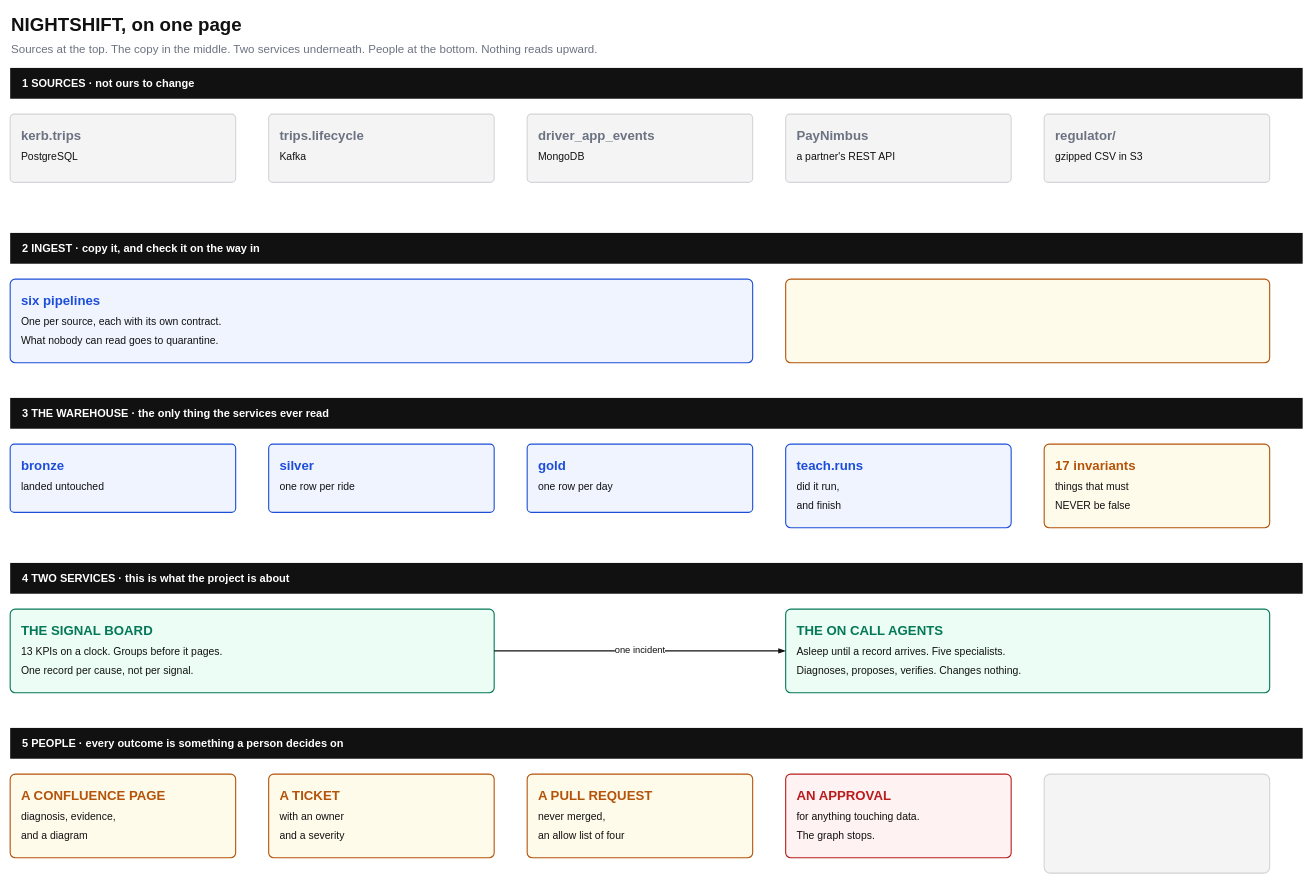
Some shapes in this 1312 by 883 pixel diagram are drawn without their labels. The shapes that lost their labels are listed below. From the top down, each one's centre as x and y in pixels, then its label:
point (1027, 320): teach.quarantine Held, with the reason and payload. An inbox with an owner.
point (1156, 823): A HUMAN decides. Always.
